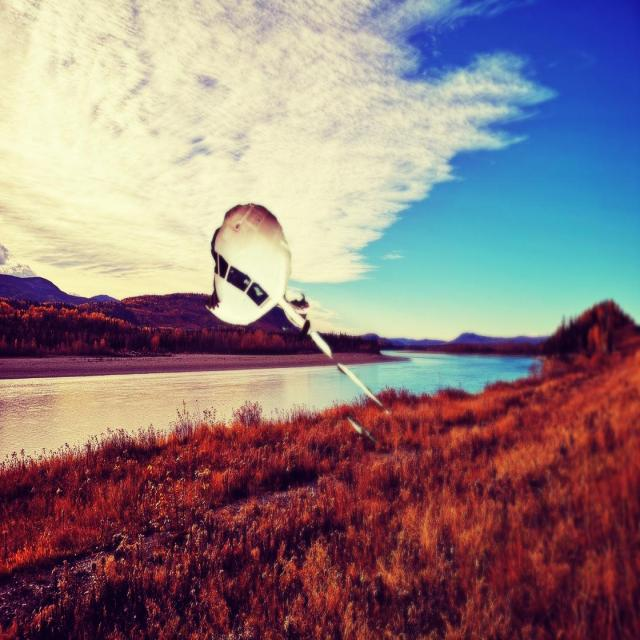airplane: (205, 201, 384, 409)
